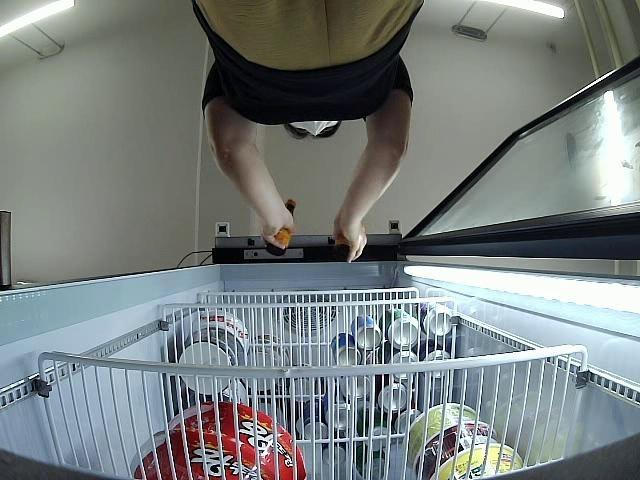17_vita500: (266, 200, 297, 254), (332, 230, 351, 260)
